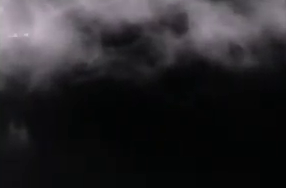Target: (14, 34, 28, 37)
